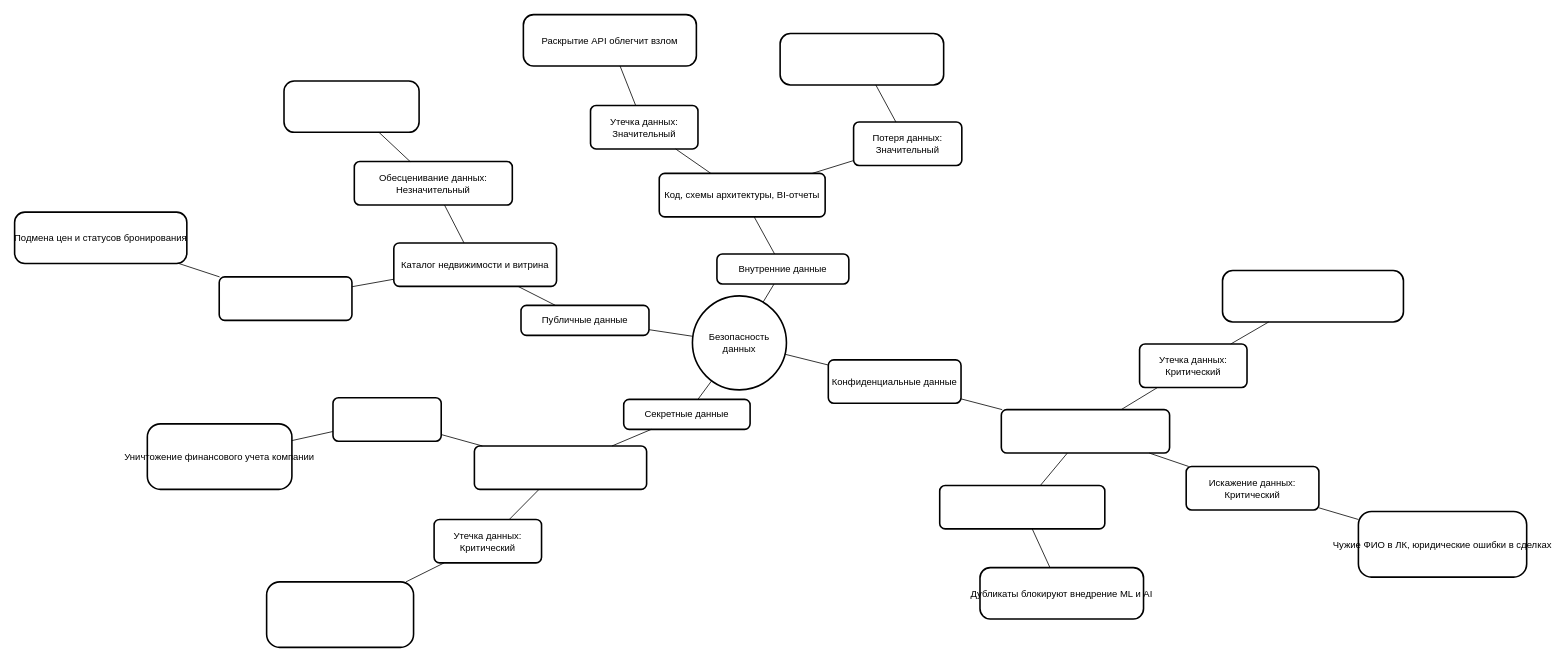
Image size: 1565x661. Some labels were removed from this diagram. The shapes that lost their labels are listed below. From the top down, each one's centre as x and y in pixels, then its label:
At pixel 861 58: "Остановка внутренней аналитики".
At pixel 351 106: "Парсинг каталога конкурентами".
At pixel 285 298: "Искажение данных: Значительный".
At pixel 1312 295: "Уязвимые API партнеров, штрафы, репутация".
At pixel 387 419: "Потеря данных: Критический".
At pixel 1085 430: "ПДн, сделки, Умный дом, CRM".
At pixel 560 467: "Ключи госорганов, пароли БД, финансы".
At pixel 1022 506: "Некачественные данные: Значительный".
At pixel 339 614: "Фиктивные сделки, полный захват инфраструктуры".
